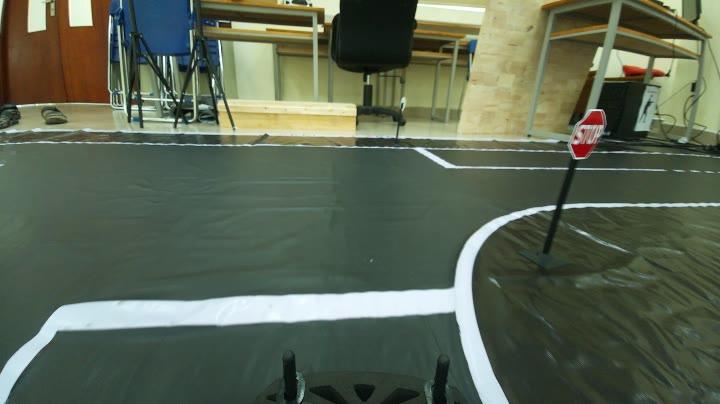stop: (566, 106, 608, 166)
